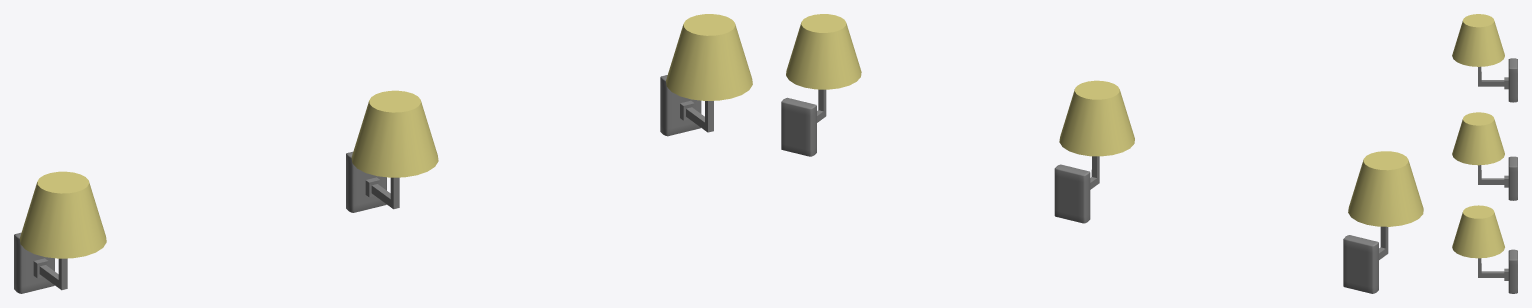
File: hallway lights.fbx
The picture shows the model from 3 angles, left to right: view 1: azimuth 30°, elevation 25°; view 2: azimuth 150°, elevation 25°; view 3: azimuth 270°, elevation 25°; orthographic projection. The views are drawn at different scales.
Visible parts, largest first — view 1: group3_pCube4, group1_pSphere1, group2_pCube3; view 2: group2_pCube3, group3_pCube4, group1_pSphere1; view 3: group3_pCube4, group2_pCube3, group1_pSphere1.
Boxes of the visible parts, x1,y1,x2,y2 form: group3_pCube4: [14, 171, 106, 293]; group1_pSphere1: [660, 14, 752, 136]; group2_pCube3: [346, 90, 438, 212]; group2_pCube3: [1054, 80, 1134, 223]; group3_pCube4: [1343, 151, 1423, 293]; group1_pSphere1: [781, 14, 861, 156]; group3_pCube4: [1452, 14, 1517, 102]; group2_pCube3: [1452, 112, 1517, 200]; group1_pSphere1: [1452, 205, 1517, 293].
Size of the model in its own units: 51.59 by 8.64 by 6.71.
